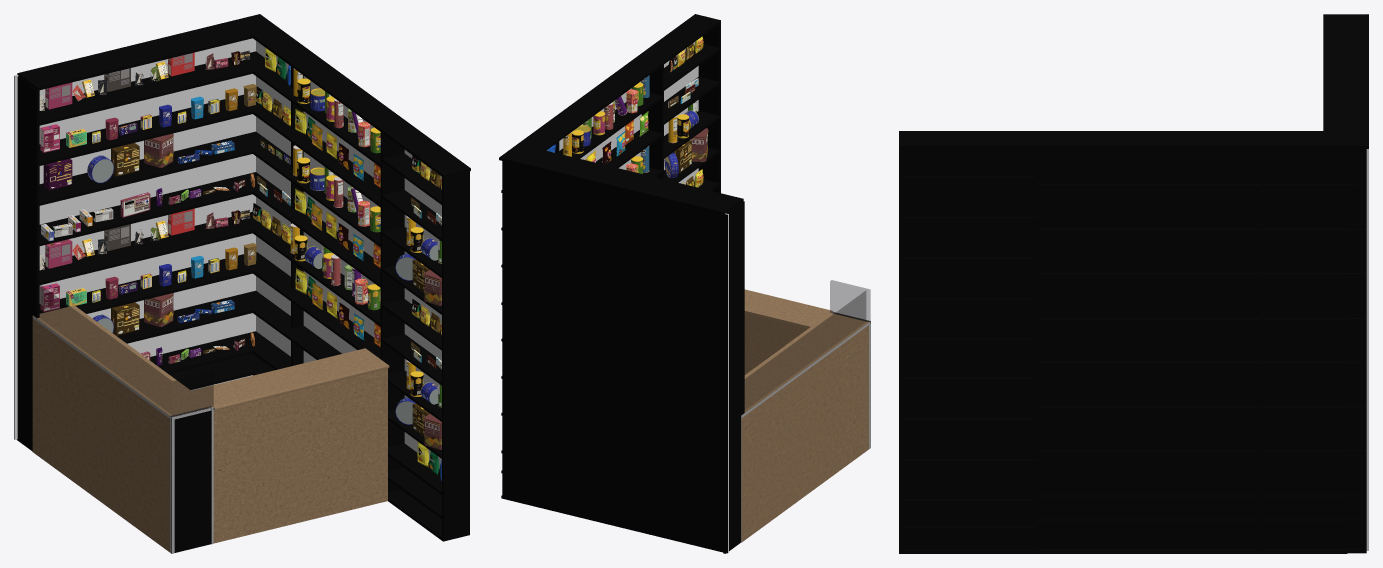
File: painted desk.fbx
3 views of the same model, side by side, from view 1: azimuth 30°, elevation 25°; view 2: azimuth 150°, elevation 25°; view 3: azimuth 270°, elevation 25° (orthographic). The views are drawn at different scales.
Visible parts, largest first — view 1: polySurface11, polySurface1, test_counter, pCube3; view 2: pCube3, polySurface1, polySurface11, test_counter; view 3: pCube3, polySurface11.
Part boxes in pixels (box(x1,y1,x2,y2)): polySurface11: box(17, 14, 470, 541); polySurface1: box(32, 282, 389, 553); test_counter: box(39, 47, 441, 480); pCube3: box(14, 38, 441, 468); pCube3: box(502, 42, 728, 553); polySurface1: box(741, 280, 870, 542); polySurface11: box(499, 14, 744, 553); test_counter: box(546, 36, 708, 187); pCube3: box(902, 14, 1368, 550); polySurface11: box(899, 14, 1368, 553).
Size of the model in its own units: 2.03 by 2.9 by 3.02.
Materials: 13 (5 with a texture image).
